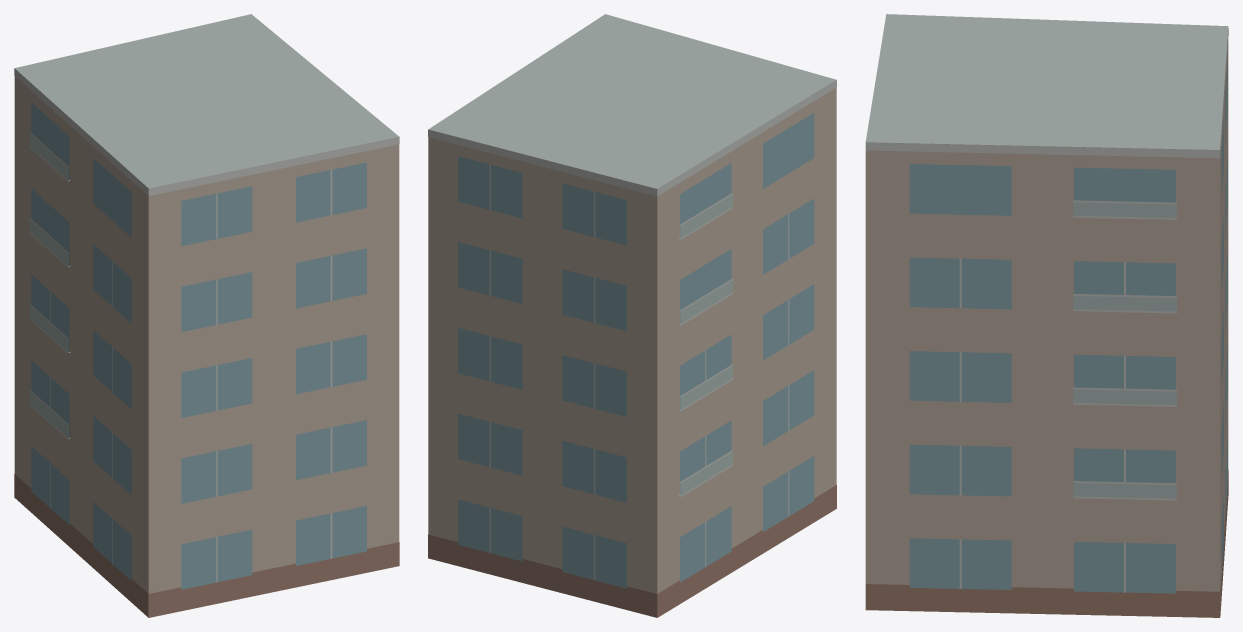
Rendered from survey-upis-33001180.glb.
3 renders of one model, left to right at view 1: azimuth 30°, elevation 25°; view 2: azimuth 150°, elevation 25°; view 3: azimuth 270°, elevation 25°, orthographic. The views are drawn at different scales.
Visible parts, largest first — view 1: survey-upis-33001180.tmp; view 2: survey-upis-33001180.tmp; view 3: survey-upis-33001180.tmp.
Part boxes in pixels (bbox=[...]): survey-upis-33001180.tmp: bbox=[14, 14, 399, 617]; survey-upis-33001180.tmp: bbox=[428, 14, 836, 617]; survey-upis-33001180.tmp: bbox=[865, 14, 1228, 617].
Size of the model in its own units: 8.67 by 13.88 by 9.77.
